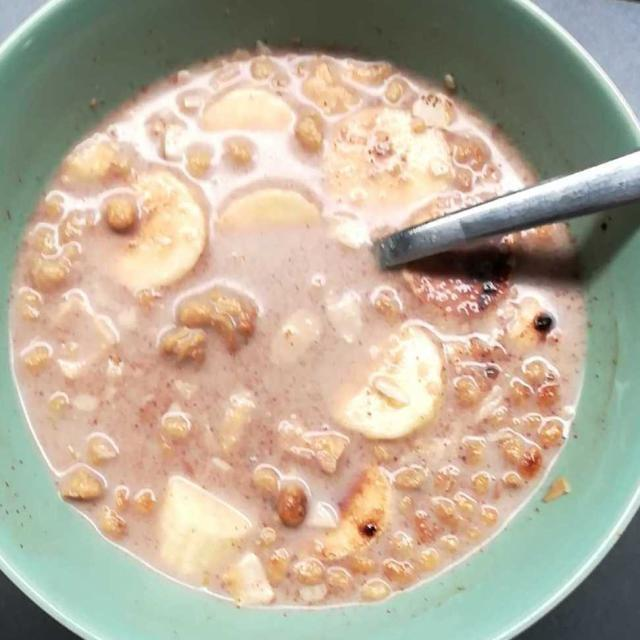banana: (94, 85, 446, 598)
crunch-muesli: (23, 50, 573, 599), (25, 43, 588, 562)
milk: (19, 48, 575, 593), (18, 54, 562, 554)
